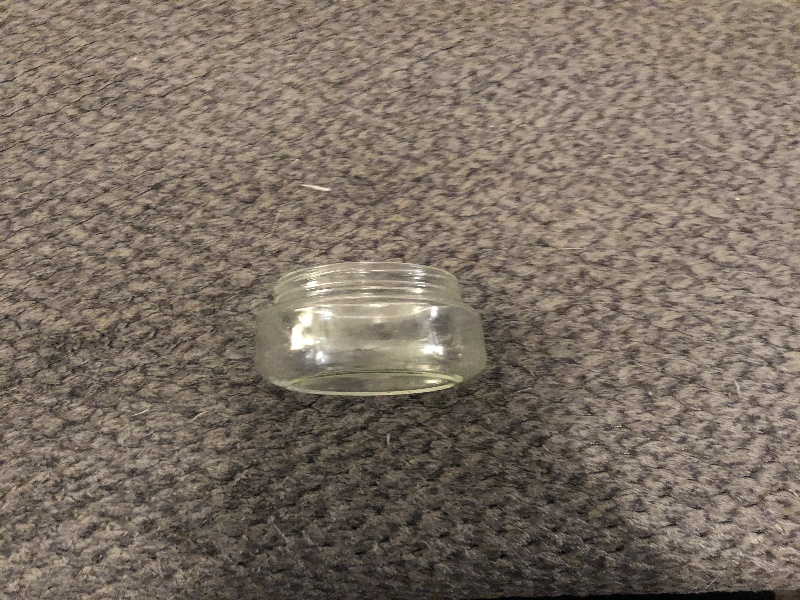glass: (253, 258, 498, 398)
